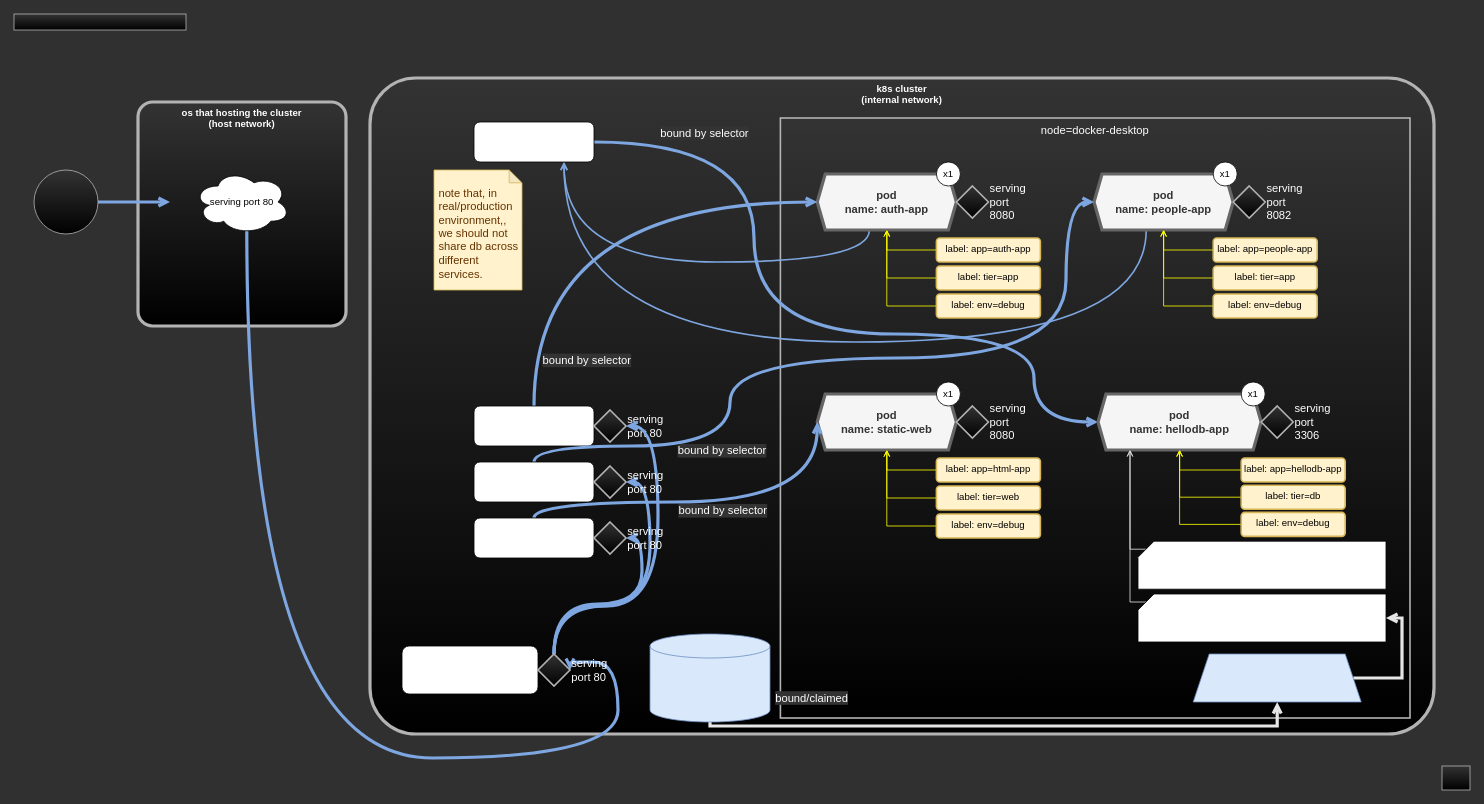
The diagram is 1484 pixels wide and 804 high, and some of its shapes have lost their labels. The centre of each missing label's shape, as x and y in pixels:
3-tiers-app: pixel 99 21
client (http): pixel 65 201
ingress (backed by ingress controller): pixel 469 669
k8s service name: auth-service: pixel 533 425
k8s service name: hellodb: pixel 533 141
k8s service name: html-service: pixel 533 537
k8s service name: people-service: pixel 533 481
mount: /etc/my.cnf = ConfigMap/mysql-config-file key="my.cnf": pixel 1261 564
mount: /var/lib/mysql = PV/PVC: pixel 1261 617
PersistentVolume hellodb-vol: pixel 709 677
PersistentVolumeClaim hellodb-vol-claim: pixel 1276 677
